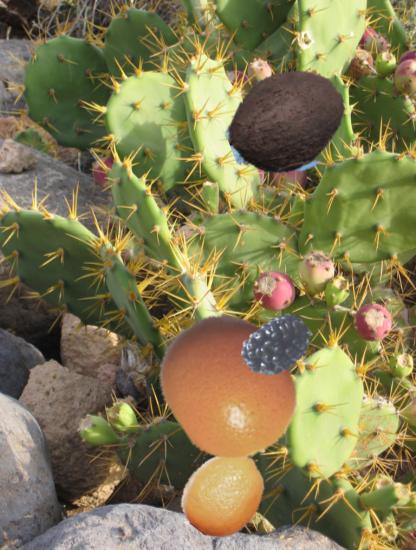Cocos: (226, 62, 348, 184)
Grapefruit: (156, 311, 305, 460)
Lemon: (179, 447, 272, 540)
Mulberry: (240, 310, 313, 383)
